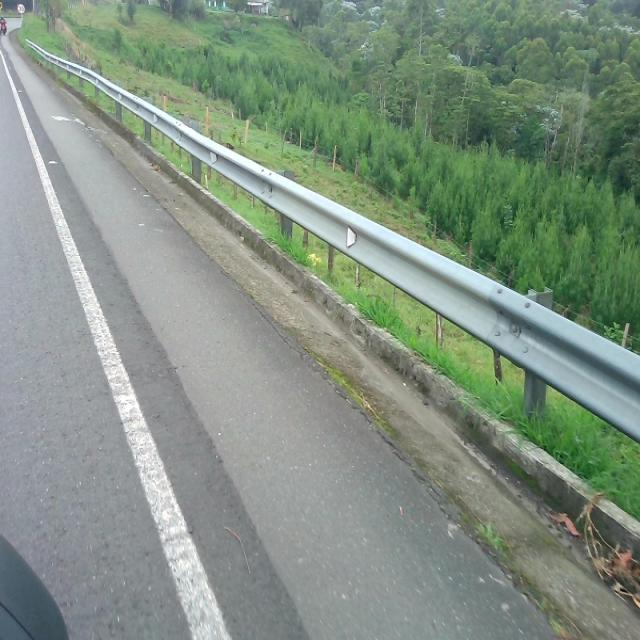DITCH: (2, 14, 637, 638), (4, 21, 638, 639)
